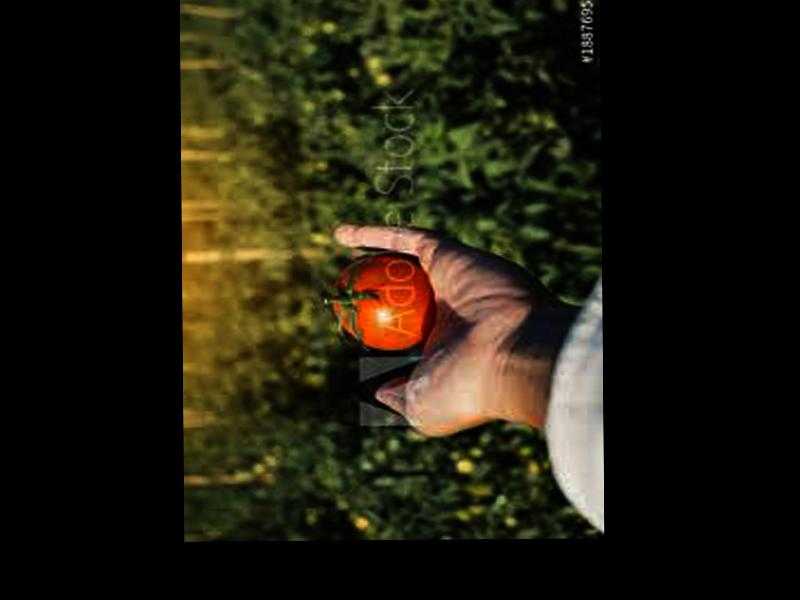Tomato: (333, 252, 430, 348)
